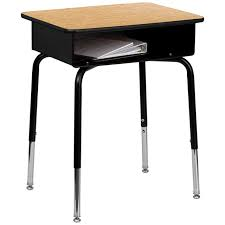desk: (18, 3, 198, 220)
